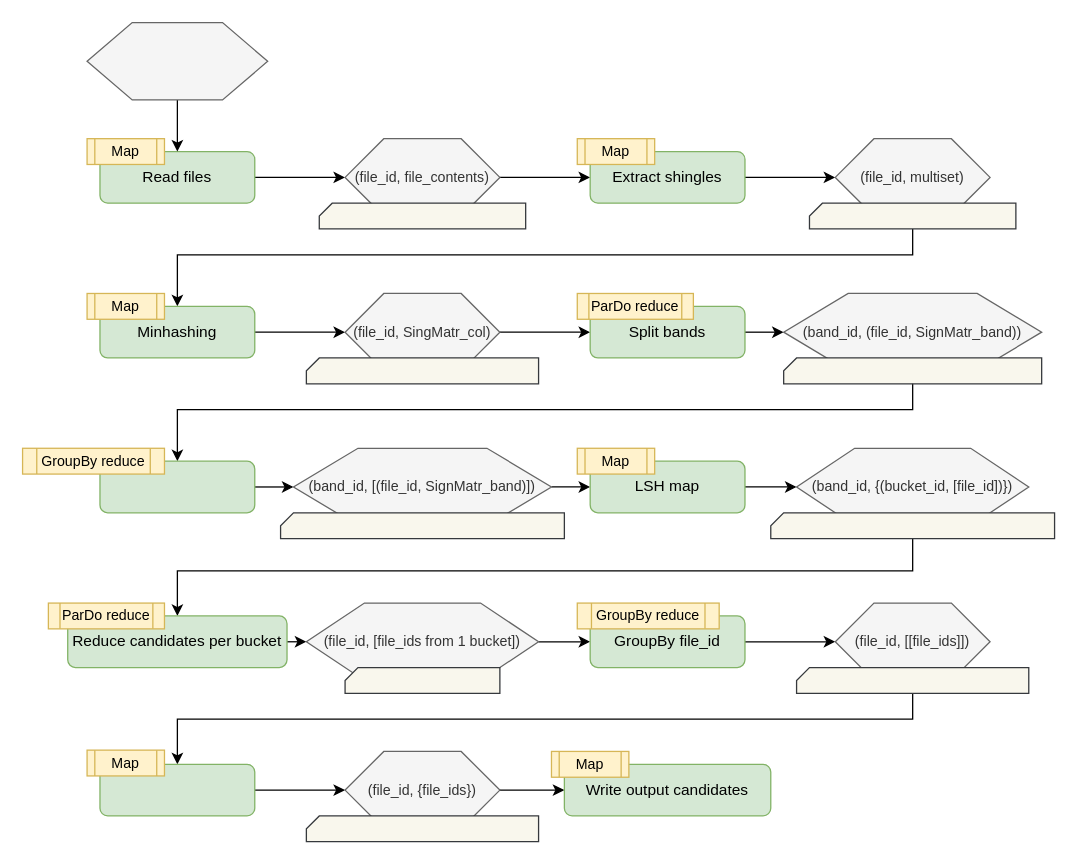
Image size: 1077x864. Some labels were removed from this diagram. Here are the shapes that lost their labels. From the top down, the centre of each, then its label:
point 177,60: List of tokenized files
point 422,215: e.g. (123456, tokens: "...")
point 912,215: e.g. (123456, {MD5 hashes})
point 422,370: e.g. (123456, SM: [MD5 hashes])
point 912,370: e.g. (0, (123456, SM[0:5]))
point 177,486: GroupBy band
point 421,525: e.g. (0, [(123456, SM[0:5]), (987654, SM[0:5]])
point 912,525: e.g. (0, {521: [123456, 987654], 845: [123456]})
point 422,679: e.g. ( 123456 , [987654])
point 912,679: e.g. ( 123456 , [[987654], [984, 5487]])
point 177,789: Flatten lists
point 422,828: e.g. ( 123456 , [987654, 984, 5487])
